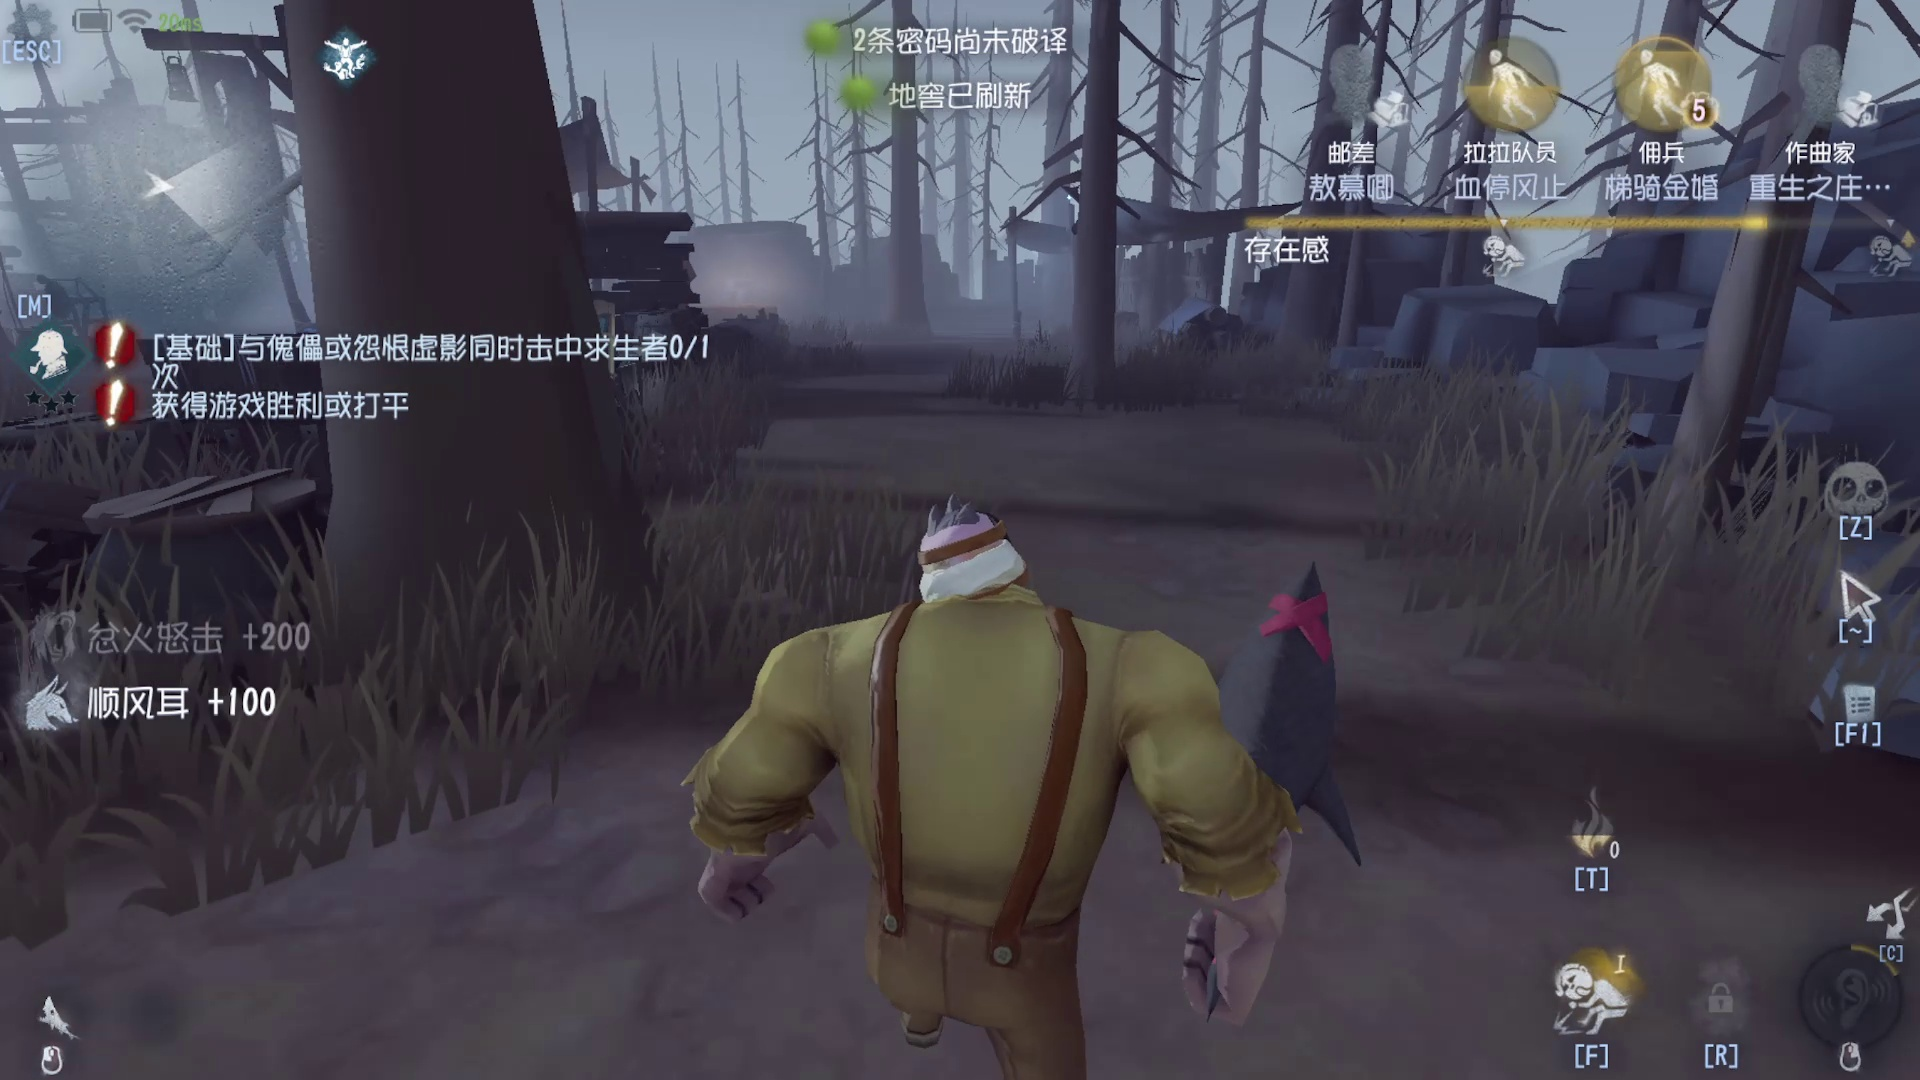技能: (1519, 744, 1643, 927)
